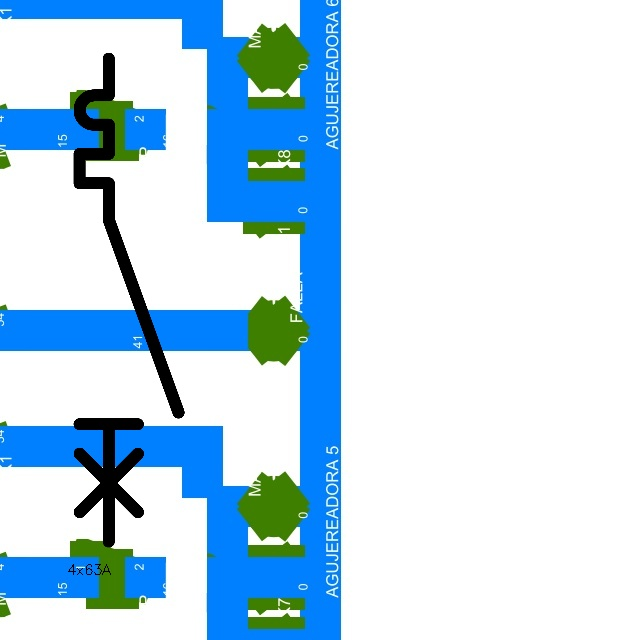interruptor_termomagnetico: (67, 46, 191, 554)
